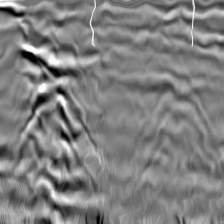Utility: (13, 79, 99, 163)
